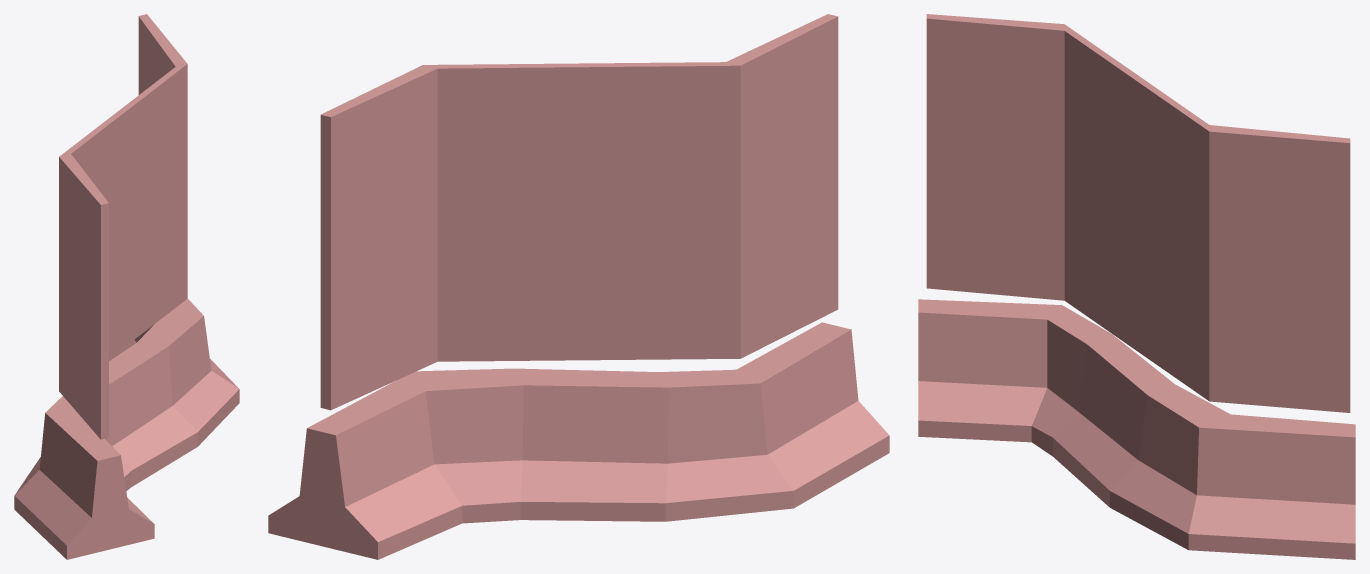
Rendered from Fence_C_B_COL.fbx.
3 renders of one model, left to right at view 1: azimuth 30°, elevation 25°; view 2: azimuth 150°, elevation 25°; view 3: azimuth 270°, elevation 25°, orthographic. The views are drawn at different scales.
Parts seen in each view (by area): view 1: Fence_C_B_Wire_COL, Fence_C_B_COL; view 2: Fence_C_B_Wire_COL, Fence_C_B_COL; view 3: Fence_C_B_Wire_COL, Fence_C_B_COL.
Boxes of the visible parts, x1,y1,x2,y2 form: Fence_C_B_Wire_COL: (59,14,187,439); Fence_C_B_COL: (14,298,239,559); Fence_C_B_Wire_COL: (320,14,838,410); Fence_C_B_COL: (268,322,889,559); Fence_C_B_Wire_COL: (926,14,1350,412); Fence_C_B_COL: (918,299,1355,559).
Bounding box in the file's own units: 280 × 299 × 300.
